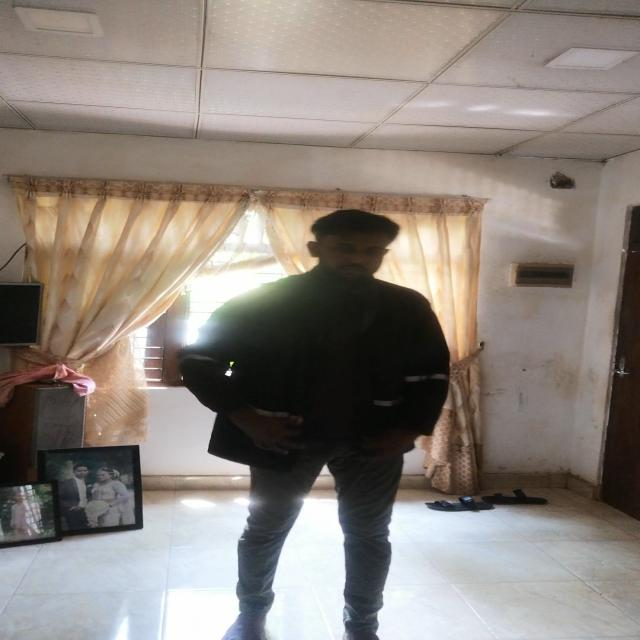Jacket_Wearer: (194, 267, 455, 484)
Person: (193, 199, 456, 640)
